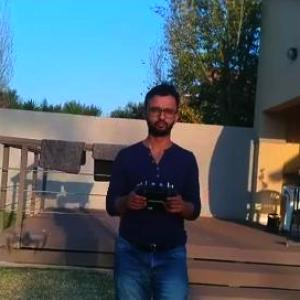follow: (100, 74, 208, 299)
